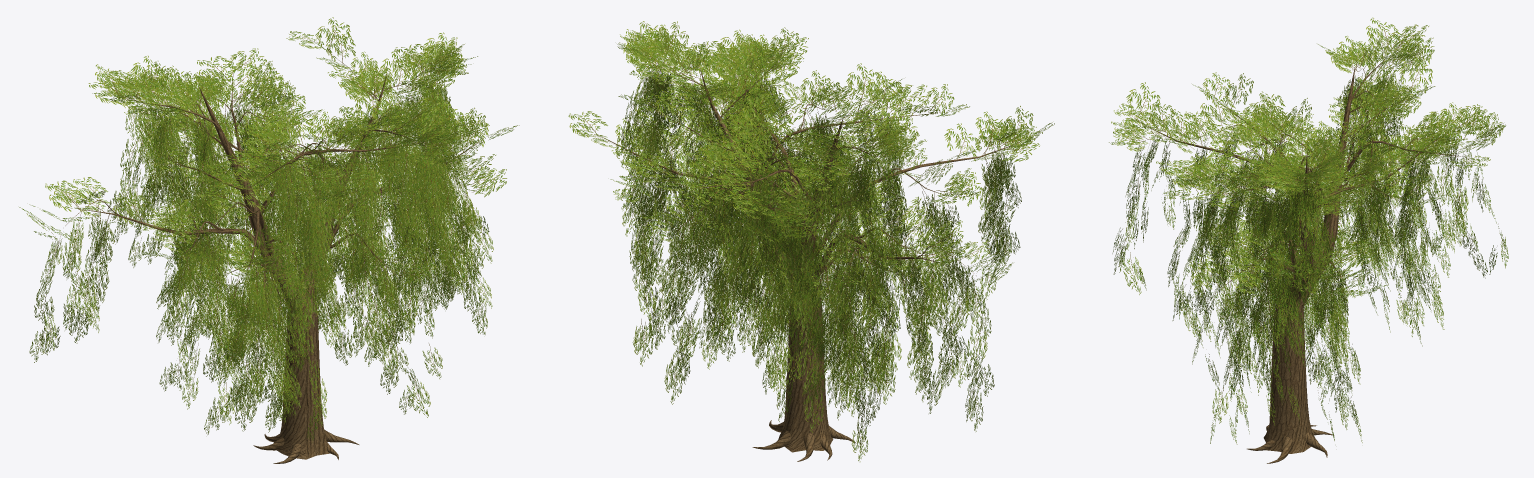
File: corealm_willow_gloam_1.glb
3 views of the same model, side by side, from view 1: azimuth 30°, elevation 25°; view 2: azimuth 150°, elevation 25°; view 3: azimuth 270°, elevation 25° (orthographic). The views are drawn at different scales.
Visible parts, largest first — view 1: corealm_willow_1; view 2: corealm_willow_1; view 3: corealm_willow_1.
Boxes of the visible parts, box(x1,y1,x2,y2) form: corealm_willow_1: box(19, 17, 519, 463); corealm_willow_1: box(568, 21, 1054, 461); corealm_willow_1: box(1109, 17, 1508, 463).
Size of the model in its own units: 10.9 by 8.25 by 8.74.
2 materials, 2 textured.
